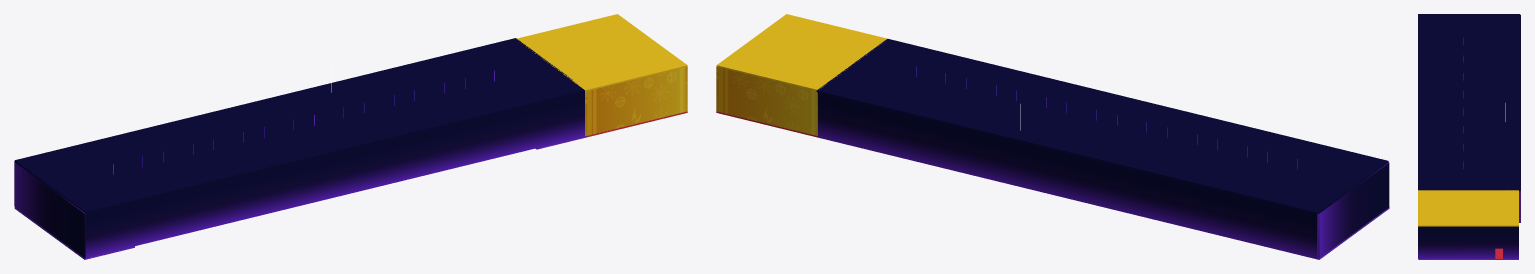
The model's file is Stage3.gltf.
3 renders of one model, left to right at view 1: azimuth 30°, elevation 25°; view 2: azimuth 150°, elevation 25°; view 3: azimuth 270°, elevation 25°, orthographic. The views are drawn at different scales.
Parts seen in each view (by area): view 1: StudioCeiling.002, Cube.209, WelcomeCeiling.002, Cube.241, Cube.207; view 2: StudioCeiling.002, Cube.244, WelcomeCeiling.002, Cube.245, Cube.207; view 3: StudioCeiling.002, WelcomeCeiling.002, Cube.199, Cube.244, Cube.222.
Part boxes in pixels (left/top/right/bottom): StudioCeiling.002: left=14, top=38, right=584, bottom=213; Cube.209: left=85, top=92, right=584, bottom=257; WelcomeCeiling.002: left=517, top=14, right=687, bottom=91; Cube.241: left=587, top=67, right=685, bottom=135; Cube.207: left=14, top=162, right=85, bottom=258; StudioCeiling.002: left=816, top=39, right=1388, bottom=214; Cube.244: left=818, top=92, right=1318, bottom=258; WelcomeCeiling.002: left=716, top=14, right=887, bottom=90; Cube.245: left=718, top=67, right=816, bottom=135; Cube.207: left=1318, top=162, right=1389, bottom=258; StudioCeiling.002: left=1418, top=14, right=1520, bottom=191; WelcomeCeiling.002: left=1418, top=190, right=1518, bottom=226; Cube.199: left=1418, top=226, right=1518, bottom=258; Cube.244: left=1519, top=15, right=1520, bottom=222; Cube.222: left=1486, top=248, right=1518, bottom=259.
Size of the model in its own units: 167 by 19.69 by 34.23.
